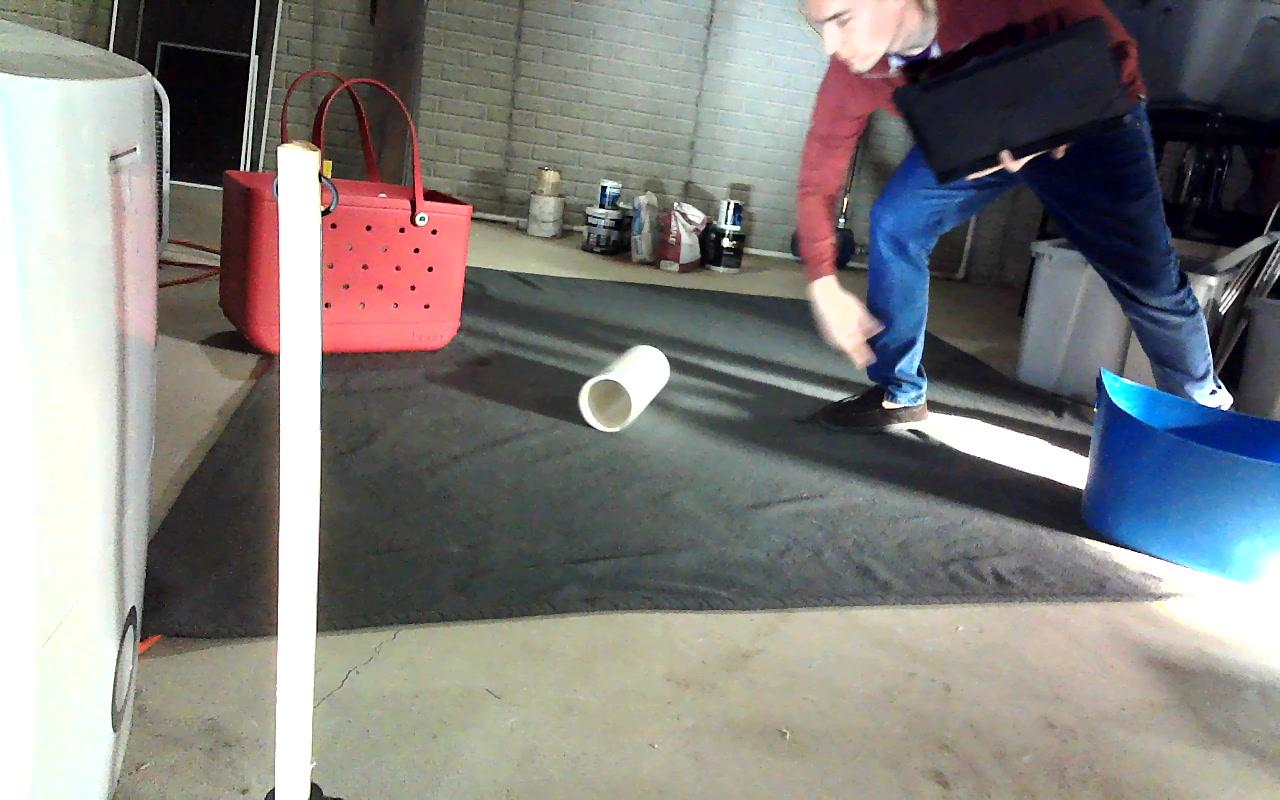coral: (579, 345, 668, 432)
